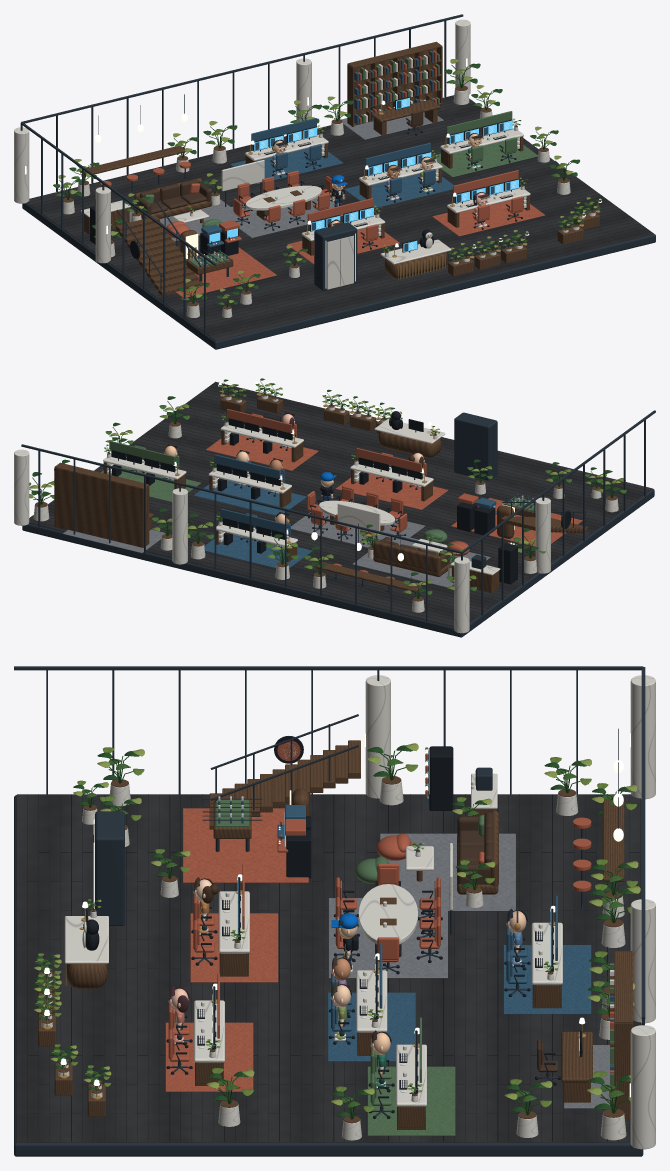
The model's file is bsd-new-york.glb.
3 views of the same model, one above another, from view 1: azimuth 30°, elevation 25°; view 2: azimuth 150°, elevation 25°; view 3: azimuth 270°, elevation 25° (orthographic). The views are drawn at different scales.
Parts seen in each view (by area): view 1: ENV_floor_surface, ENV_floor, GAMES_rug, ZONE_planB, ZONE_ops, ENV_back_header, ELEVATOR_frame, ZONE_devB, ELEVATOR_doors, ZONE_meeting, EXEC_bookcase_back, ENV_column (+24 smaller); view 2: ENV_floor_surface, ENV_floor, EXEC_bookcase_back, ELEVATOR_frame, ZONE_planB, ZONE_planA, ZONE_devB, ZONE_devA, ENV_back_header, ZONE_meeting, ZONE_lounge, ENV_column.002 (+30 smaller); view 3: ENV_floor_surface, ENV_floor, GAMES_rug, ZONE_lounge, ZONE_meeting, ZONE_planA, ZONE_devA, ZONE_ops, ZONE_planB, ELEVATOR_frame, ENV_column.003, ENV_left_header (+21 smaller).
Boxes of the visible parts, x1=… form: ENV_floor_surface: x1=27, y1=95, x2=653, y2=341; ENV_floor: x1=22, y1=203, x2=655, y2=349; GAMES_rug: x1=175, y1=247, x2=276, y2=297; ZONE_planB: x1=432, y1=200, x2=545, y2=236; ZONE_ops: x1=431, y1=141, x2=537, y2=177; ENV_back_header: x1=21, y1=14, x2=463, y2=123; ELEVATOR_frame: x1=314, y1=222, x2=357, y2=290; ZONE_devB: x1=344, y1=173, x2=453, y2=208; ELEVATOR_doors: x1=327, y1=235, x2=353, y2=289; ZONE_meeting: x1=231, y1=197, x2=343, y2=237; EXEC_bookcase_back: x1=354, y1=48, x2=436, y2=116; ENV_column: x1=14, y1=127, x2=29, y2=203; ENV_floor_surface: x1=29, y1=381, x2=652, y2=627; ENV_floor: x1=22, y1=489, x2=654, y2=637; EXEC_bookcase_back: x1=55, y1=467, x2=142, y2=547; ELEVATOR_frame: x1=454, y1=412, x2=497, y2=480; ZONE_planB: x1=206, y1=434, x2=318, y2=470; ZONE_planA: x1=335, y1=473, x2=448, y2=509; ZONE_devB: x1=194, y1=480, x2=306, y2=515; ZONE_devA: x1=204, y1=534, x2=312, y2=568; ENV_back_header: x1=21, y1=444, x2=461, y2=553; ZONE_meeting: x1=291, y1=512, x2=424, y2=547; ZONE_lounge: x1=352, y1=533, x2=490, y2=587; ENV_column.002: x1=172, y1=488, x2=187, y2=564; ENV_floor_surface: x1=16, y1=794, x2=640, y2=1142; ENV_floor: x1=14, y1=795, x2=643, y2=1156; GAMES_rug: x1=183, y1=808, x2=308, y2=882; ZONE_lounge: x1=380, y1=833, x2=515, y2=911; ZONE_meeting: x1=328, y1=898, x2=447, y2=978; ZONE_planA: x1=190, y1=913, x2=278, y2=982; ZONE_devA: x1=503, y1=945, x2=591, y2=1014; ZONE_ops: x1=367, y1=1066, x2=455, y2=1135; ZONE_planB: x1=165, y1=1022, x2=253, y2=1091; ELEVATOR_frame: x1=95, y1=811, x2=124, y2=925; ENV_column.003: x1=630, y1=1025, x2=655, y2=1149; ENV_left_header: x1=14, y1=666, x2=643, y2=670.
Bounding box in the file's own units: 25.76 × 4.69 × 19.38.
Materials: 52 (8 with a texture image).
